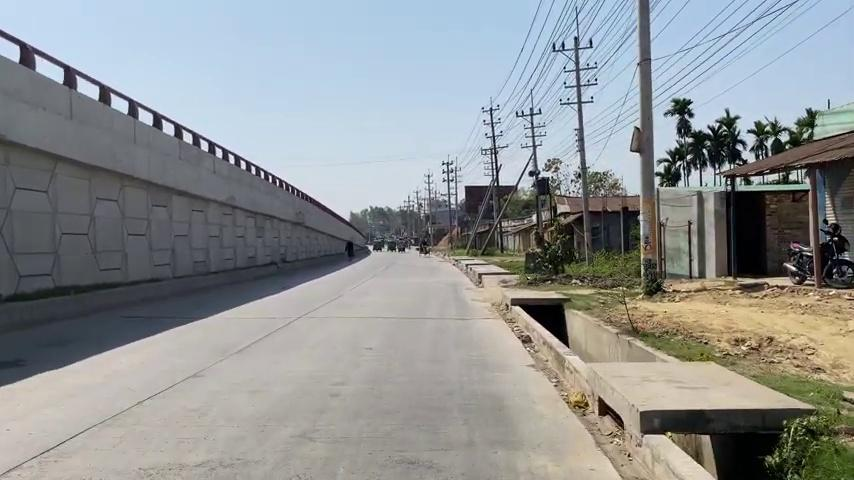Curb: (781, 217, 853, 288)
Fallen-tree: (0, 21, 369, 293)
Garbage: (551, 6, 598, 266), (635, 0, 659, 290)
Garbage-bin: (659, 410, 804, 480), (514, 296, 624, 366)
